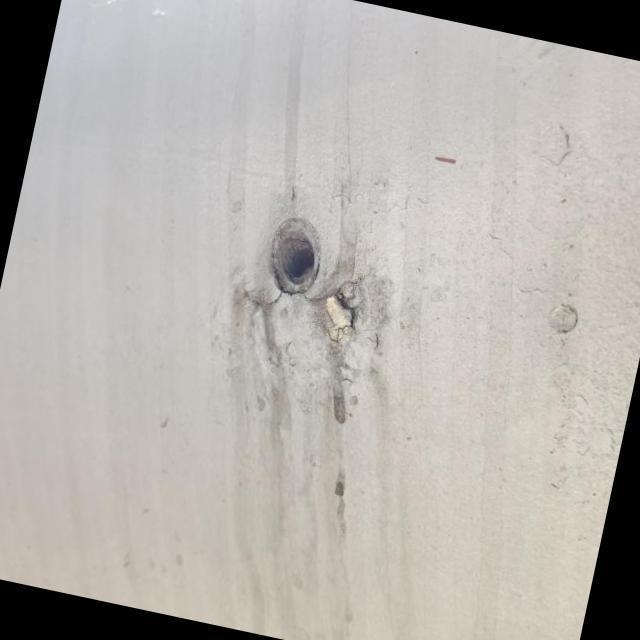Rupture: (294, 266, 384, 352)
